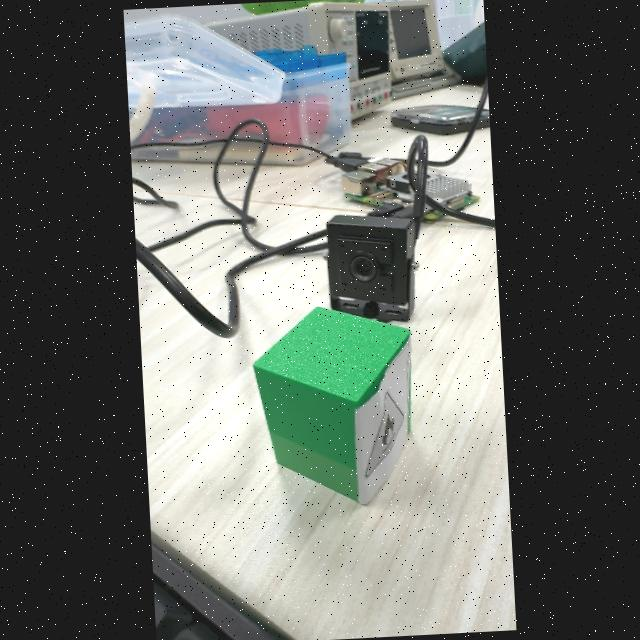Fire: (366, 391, 404, 477)
